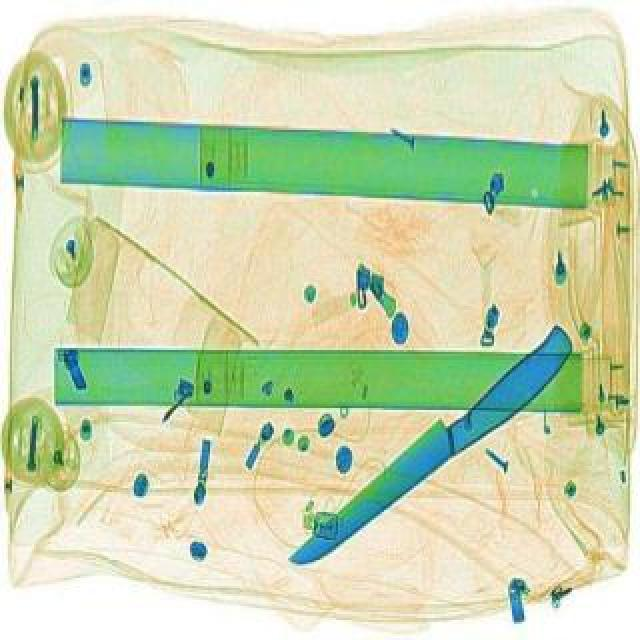knife: (280, 320, 588, 576)
